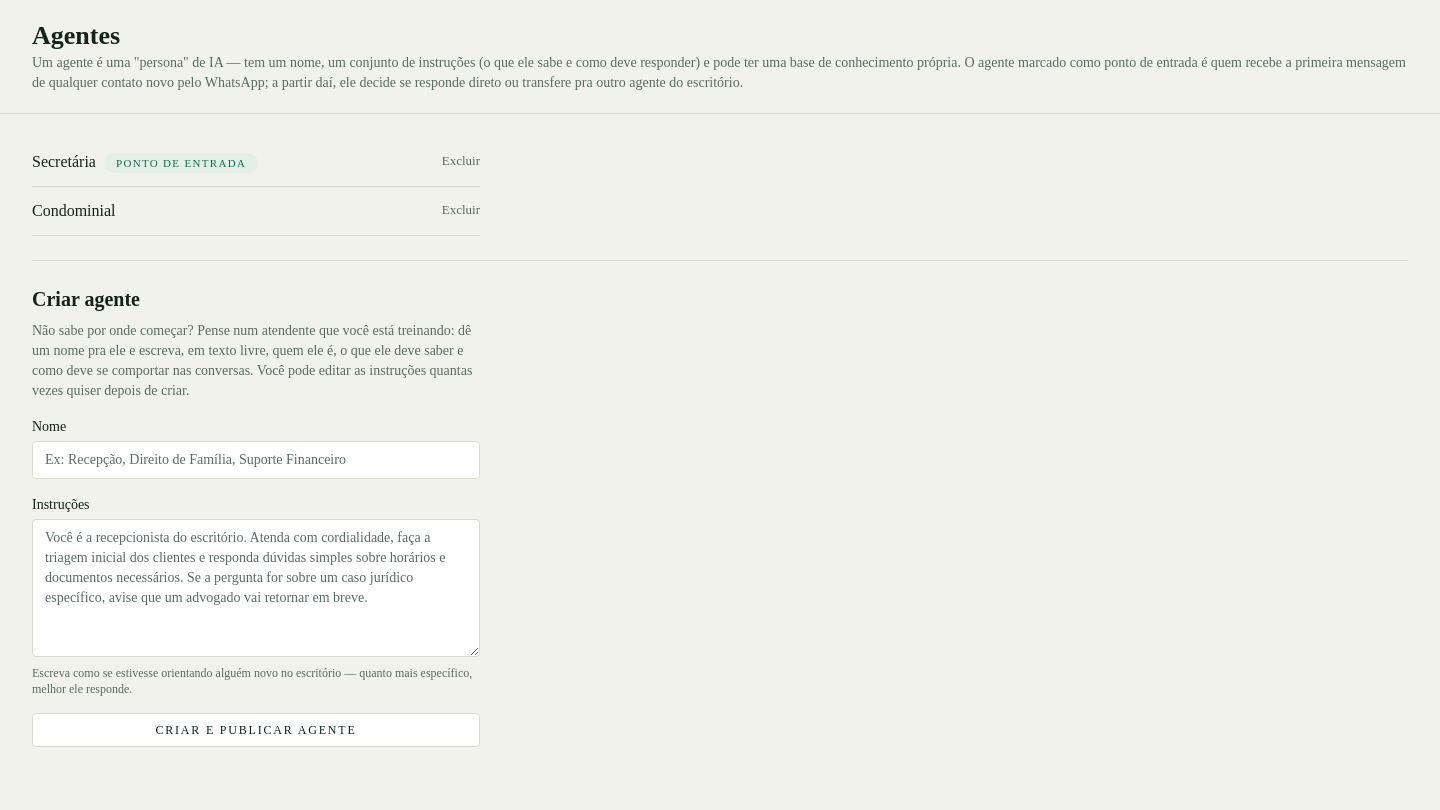
Test: AgentsPanel › mostra erro do backend ao tentar apagar o ponto de entrada
Expected: the link "Secretária" is shown, [32,152,96,170]
Click the button "Excluir" in the row of "Secretária".
click(461, 161)  # box [442,153,480,170]
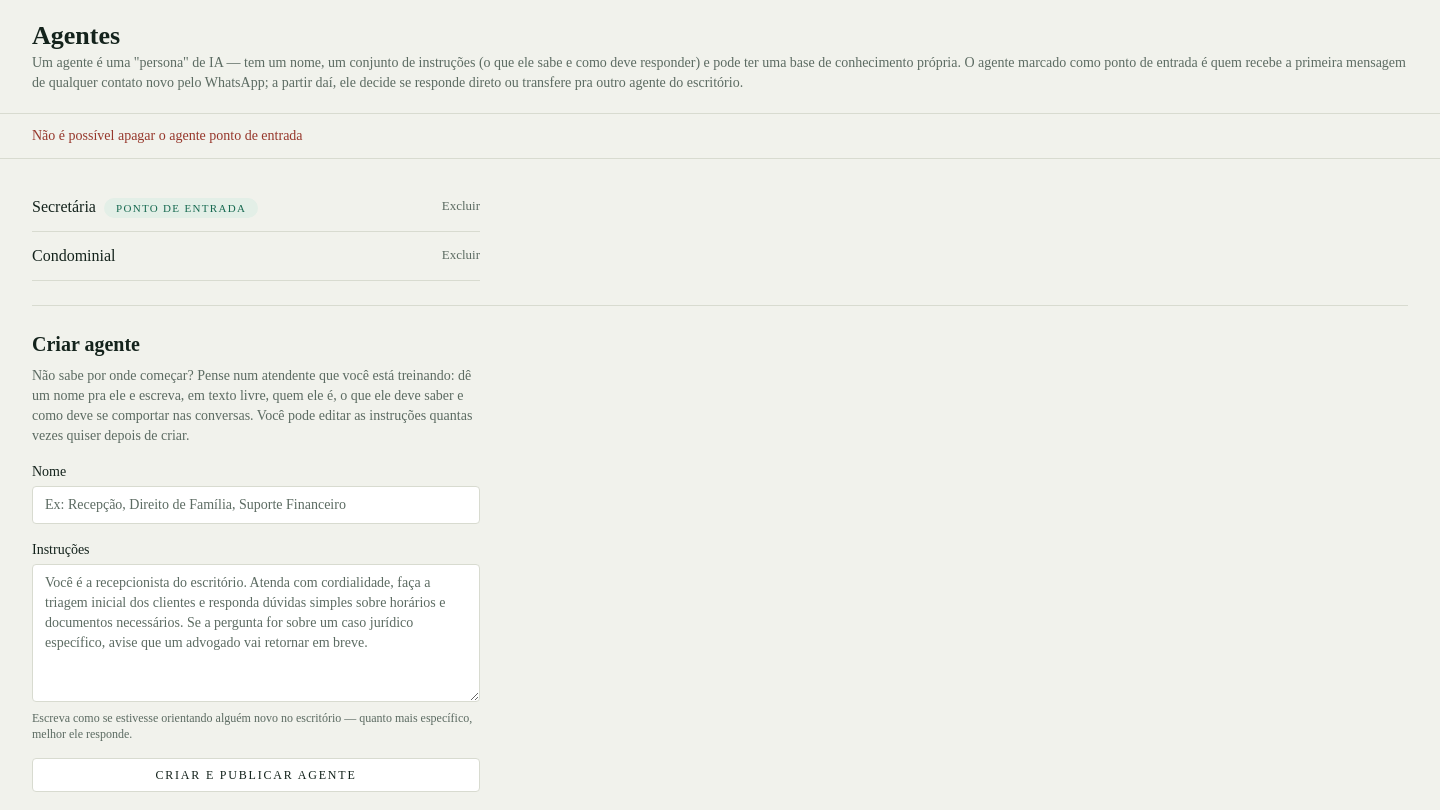
Result: the message shows "ponto de entrada" at [32,128,303,142]
